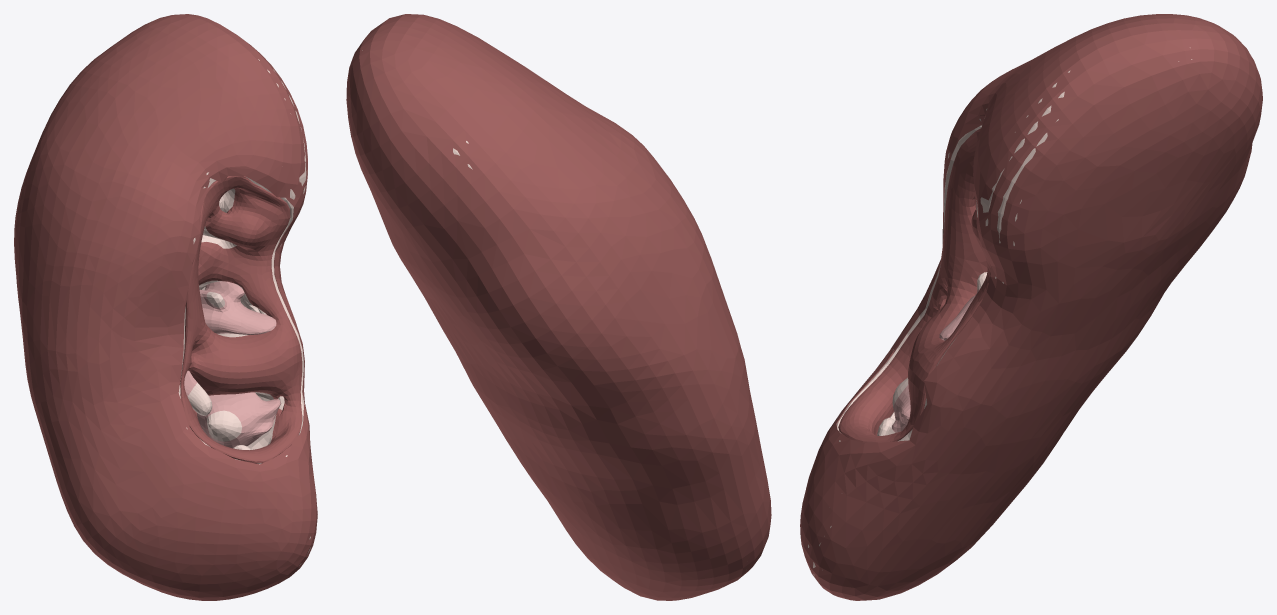
Rendered from VH_M_Kidney_R_0.6.glb.
The picture shows the model from 3 angles, left to right: view 1: azimuth 30°, elevation 25°; view 2: azimuth 150°, elevation 25°; view 3: azimuth 270°, elevation 25°; orthographic projection. The views are drawn at different scales.
Visible parts, largest first — view 1: VH_M_kidney_capsule_R, VH_M_hilum_of_kidney_R, VH_M_renal_pyramid_f, VH_M_renal_pyramid_h, VH_M_renal_column_R, VH_M_outer_cortex_of_kidney_R, VH_M_renal_papilla_R_h, VH_M_renal_papilla_R_g; view 2: VH_M_kidney_capsule_R; view 3: VH_M_kidney_capsule_R, VH_M_hilum_of_kidney_R, VH_M_outer_cortex_of_kidney_R, VH_M_renal_pyramid_h.
Boxes of the visible parts, x1,y1,x2,y2 form: VH_M_kidney_capsule_R: (14,14,317,600); VH_M_hilum_of_kidney_R: (180,176,302,463); VH_M_renal_pyramid_f: (199,281,276,334); VH_M_renal_pyramid_h: (197,392,280,448); VH_M_renal_column_R: (199,188,276,449); VH_M_outer_cortex_of_kidney_R: (90,59,316,565); VH_M_renal_papilla_R_h: (207,410,242,441); VH_M_renal_papilla_R_g: (187,382,212,415); VH_M_kidney_capsule_R: (346,14,771,600); VH_M_kidney_capsule_R: (800,14,1262,600); VH_M_hilum_of_kidney_R: (838,128,990,442); VH_M_outer_cortex_of_kidney_R: (808,47,1192,576); VH_M_renal_pyramid_h: (892,384,910,432).
Bounding box in the file's own units: 0.0655 × 0.1125 × 0.0764.
